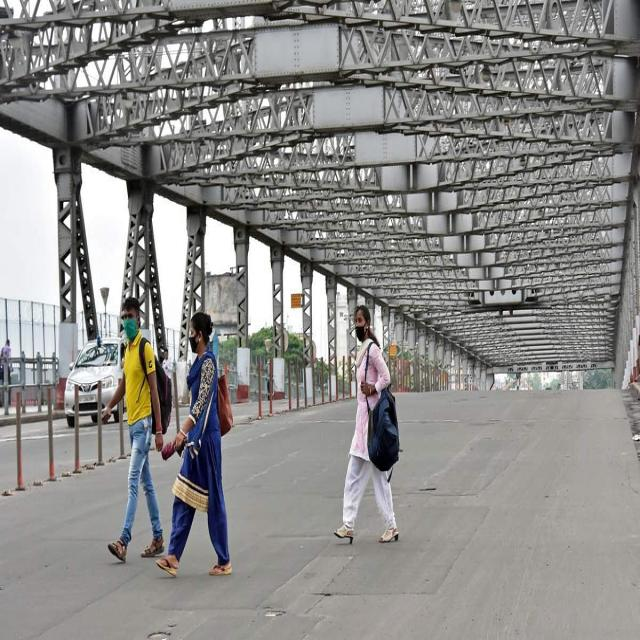adult: (157, 315, 232, 575), (102, 294, 169, 563), (333, 303, 400, 547)
